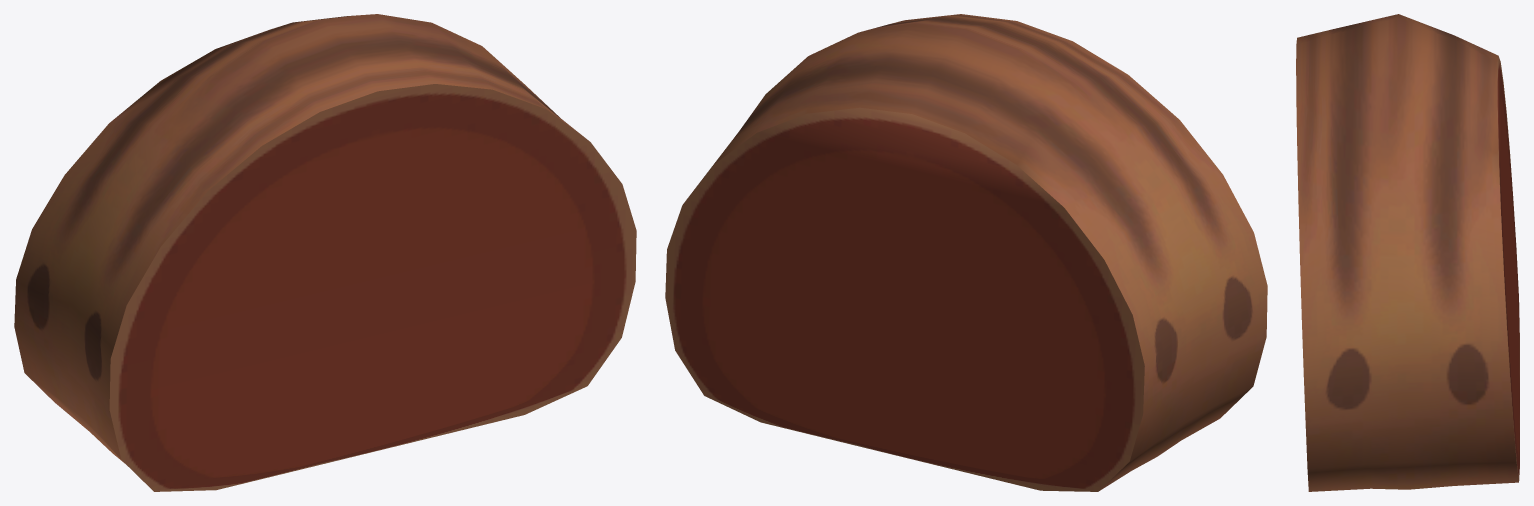
Rendered from CookedGrubMeat.fbx.
3 views of the same model, side by side, from view 1: azimuth 30°, elevation 25°; view 2: azimuth 150°, elevation 25°; view 3: azimuth 270°, elevation 25° (orthographic). The views are drawn at different scales.
Visible parts, largest first — view 1: Meat; view 2: Meat; view 3: Meat.
Boxes of the visible parts, bbox=[...] form: Meat: bbox=[14, 14, 636, 491]; Meat: bbox=[665, 14, 1267, 491]; Meat: bbox=[1296, 14, 1519, 491].
Size of the model in its own units: 0.7384 by 0.5396 by 0.2923.
